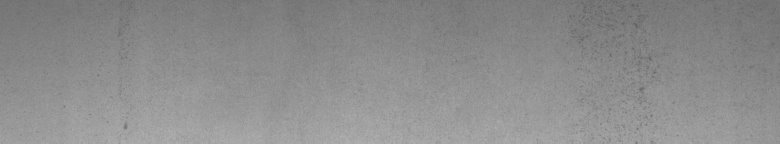ib: (581, 23, 652, 96)
